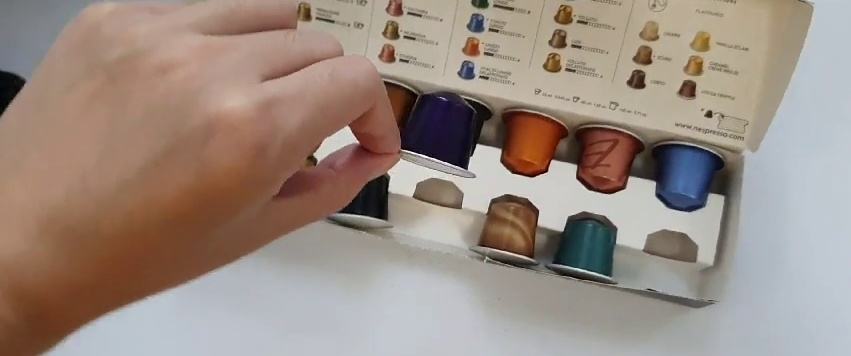capsule_11: (393, 89, 477, 184)
